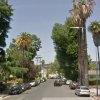Tree: (45, 11, 86, 71)
